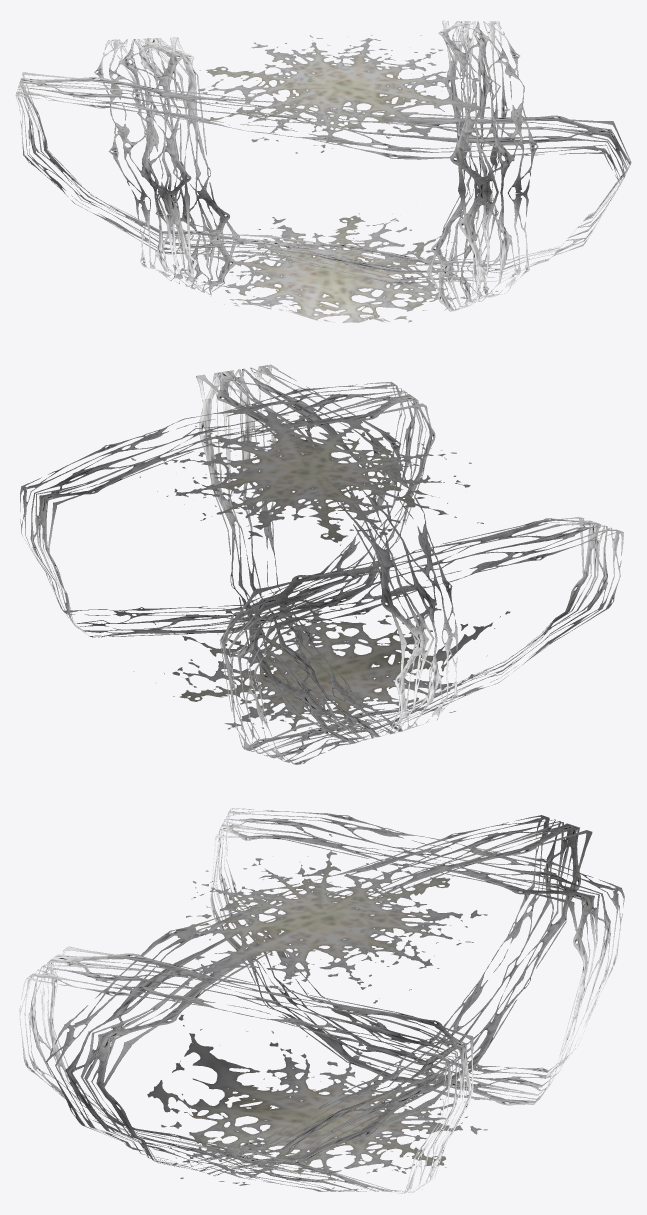
File: hulk_fusion_projectile_web.glb
3 views of the same model, one above another, from view 1: azimuth 30°, elevation 25°; view 2: azimuth 150°, elevation 25°; view 3: azimuth 270°, elevation 25° (orthographic). The views are drawn at different scales.
Parts seen in each view (by area): view 1: hulk_fusion_projectile_web_1, hulk_fusion_projectile_web_0; view 2: hulk_fusion_projectile_web_1, hulk_fusion_projectile_web_0; view 3: hulk_fusion_projectile_web_1, hulk_fusion_projectile_web_0.
Part boxes in pixels (left/top/right/bottom): hulk_fusion_projectile_web_1: left=15, top=20, right=631, bottom=311; hulk_fusion_projectile_web_0: left=168, top=35, right=509, bottom=322; hulk_fusion_projectile_web_1: left=20, top=364, right=623, bottom=764; hulk_fusion_projectile_web_0: left=131, top=402, right=510, bottom=742; hulk_fusion_projectile_web_1: left=19, top=808, right=624, bottom=1193; hulk_fusion_projectile_web_0: left=147, top=834, right=487, bottom=1189.
Size of the model in its own units: 94.17 by 34.98 by 92.67.
Materials: 2 (2 with a texture image).
